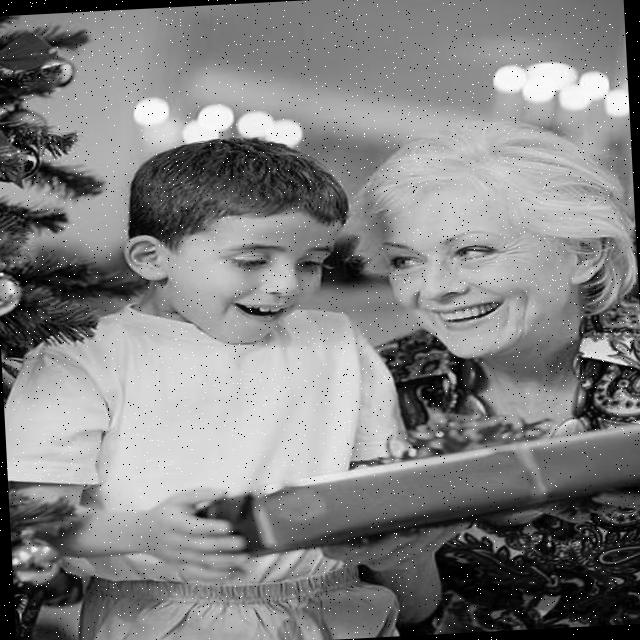Surprised: (167, 210, 354, 348)
